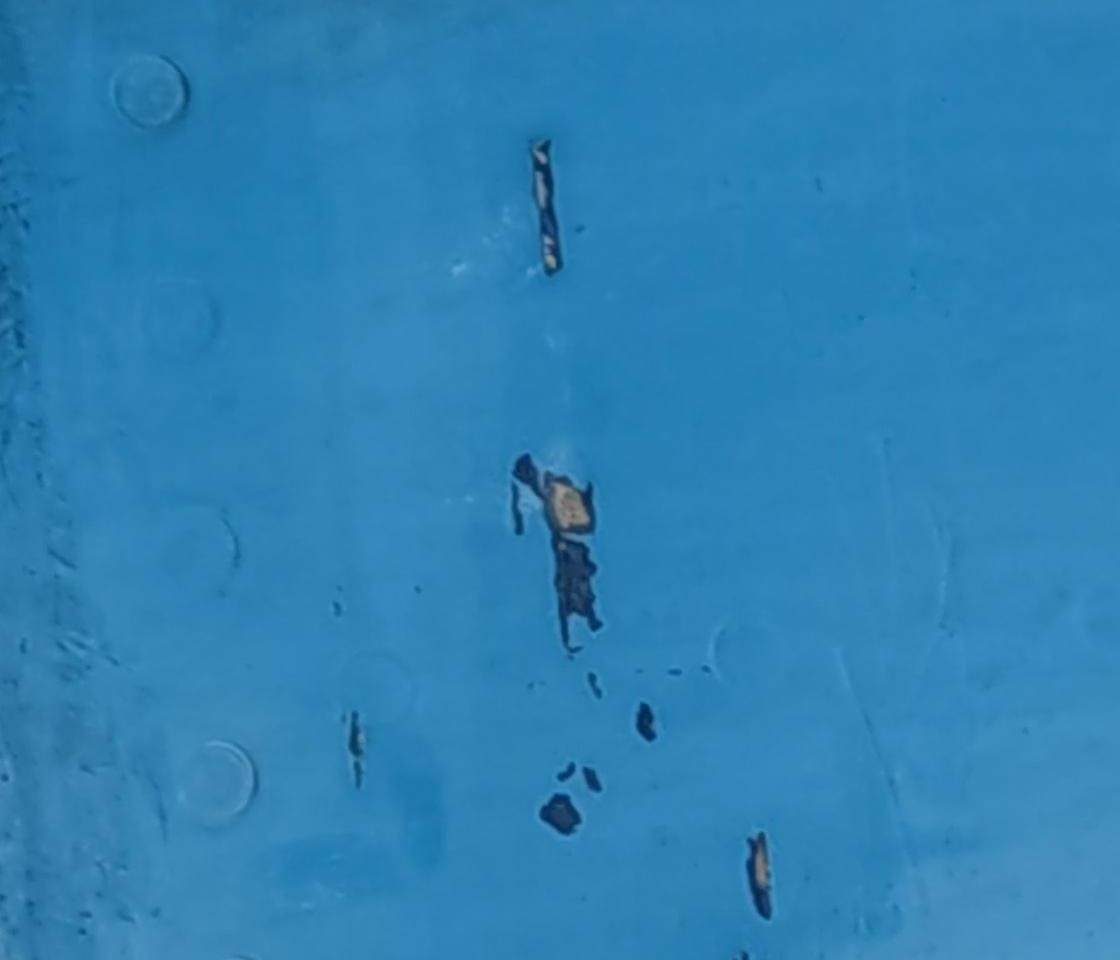paint_peel: (490, 443, 622, 661), (505, 131, 579, 282), (727, 827, 790, 925), (531, 780, 588, 844), (618, 690, 673, 755)
